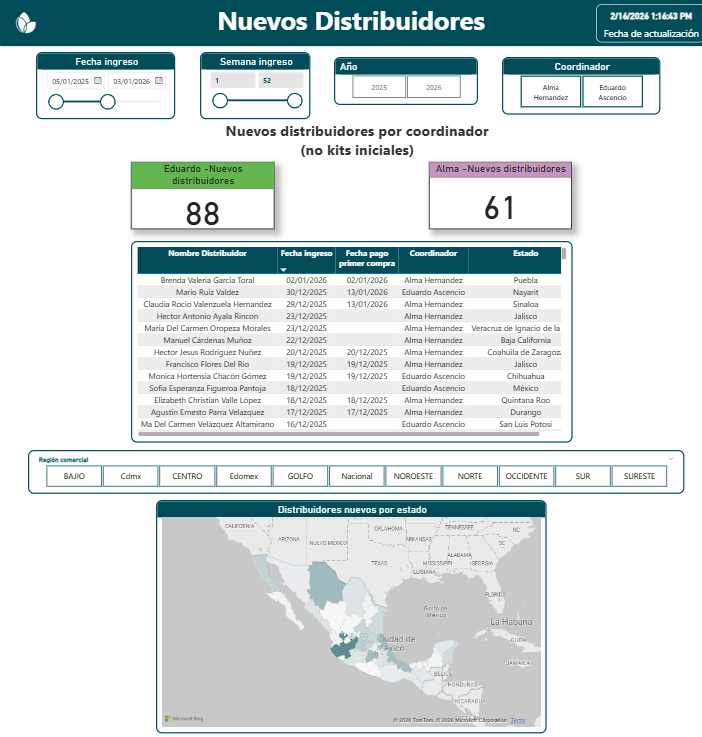

Layout of this report page (visuals, bound fields, positions):
{"tool":"powerbi","page":{"name":"Nuevos distribuidores","canvas":[1180,1200],"ordinal":7},"visuals":[{"type":"shape","box":[0,0,1280,78.9],"z":0},{"type":"textbox","box":[233.3,0,710,86.7],"z":1000},{"type":"slicer","fields":{"Values":["distribuidores nuevos.coordinador"]},"box":[819,100,258,74],"z":2000},{"type":"columnChart","title":"Distribuidores nuevos por semana","fields":{"Category":["distr_CalendarioSemanasPSGroup.Nweek"],"Y":["distribuidores nuevos.Dist. Nuevos"],"Series":["distribuidores nuevos.coordinador"]},"box":[0,794,1180,406],"z":3000},{"type":"slicer","fields":{"Values":["distr_CalendarioSemanasPSGroup.day"]},"box":[53,88,245,97],"z":4000},{"type":"textbox","box":[356,196,484,83],"z":5000},{"type":"slicer","fields":{"Values":["distr_CalendarioSemanasPSGroup.Nweek"]},"box":[391,88,244,97],"z":6000},{"type":"card","title":"Eduardo -Nuevos distribuidores","fields":{"Values":["Count(distribuidores nuevos.idcliente)"]},"box":[227,271,238,112],"z":7000},{"type":"tableEx","fields":{"Values":["distribuidores nuevos.nombre_cliente","distribuidores nuevos.Fecha_ingreso","distribuidores nuevos.fecha_pago_primer_compra","distribuidores nuevos.coordinador","distribuidores nuevos.Estado"]},"box":[227,414,726,356],"z":8000},{"type":"card","title":"Alma -Nuevos distribuidores","fields":{"Values":["Count(distribuidores nuevos.idcliente)"]},"box":[715,271,238,112],"z":9000},{"type":"image","box":[0,0,93.3,78.9],"z":10001}]}

Visuals, with their boxes on the page's 1180x1200 design canvas (x1, y1, x2, y2). These are canvas units, not pixel positions in the 702x737 screenshot, which may show the page scaled, cropped or inside an application window:
shape: rect(0, 0, 1280, 79)
textbox: rect(233, 0, 943, 87)
slicer - distribuidores nuevos.coordinador: rect(819, 100, 1077, 174)
"Distribuidores nuevos por semana" columnChart: rect(0, 794, 1180, 1200)
slicer - distr_CalendarioSemanasPSGroup.day: rect(53, 88, 298, 185)
textbox: rect(356, 196, 840, 279)
slicer - distr_CalendarioSemanasPSGroup.Nweek: rect(391, 88, 635, 185)
"Eduardo -Nuevos distribuidores" card: rect(227, 271, 465, 383)
tableEx - distribuidores nuevos.nombre_cliente x distribuidores nuevos.Fecha_ingreso: rect(227, 414, 953, 770)
"Alma -Nuevos distribuidores" card: rect(715, 271, 953, 383)
image: rect(0, 0, 93, 79)
